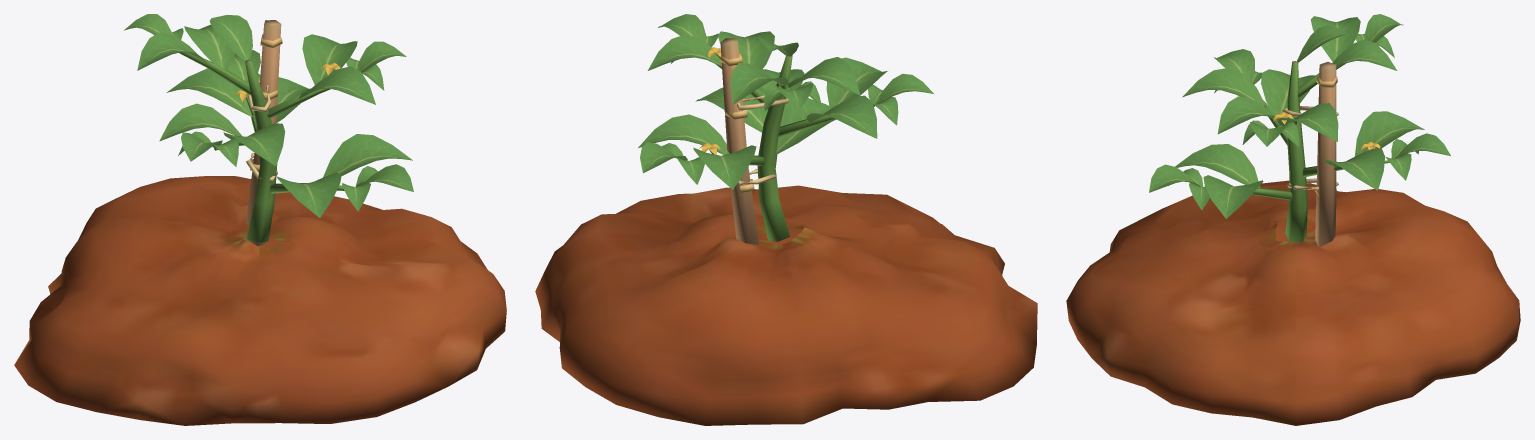
3 renders of one model, left to right at view 1: azimuth 30°, elevation 25°; view 2: azimuth 150°, elevation 25°; view 3: azimuth 270°, elevation 25°, orthographic. The views are drawn at different scales.
Visible parts, largest first — view 1: tomato-growing; view 2: tomato-growing; view 3: tomato-growing.
Boxes of the visible parts, bbox=[...] form: tomato-growing: bbox=[14, 14, 506, 425]; tomato-growing: bbox=[535, 14, 1037, 425]; tomato-growing: bbox=[1066, 14, 1520, 425].
Bounding box in the file's own units: 0.7926 × 0.501 × 0.7248.
1 material, 1 textured.
